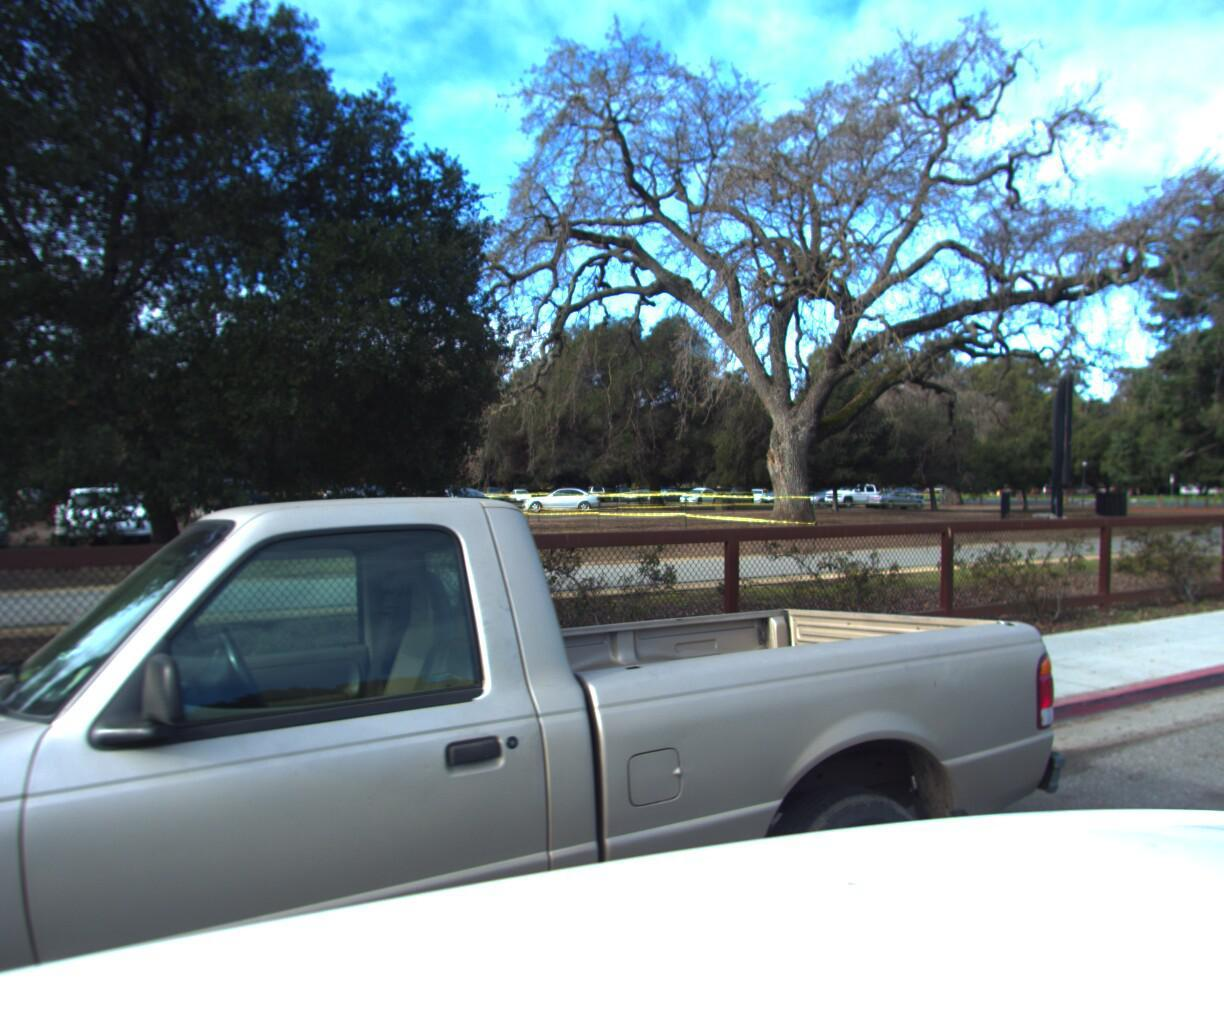car: (0, 469, 1109, 1024)
